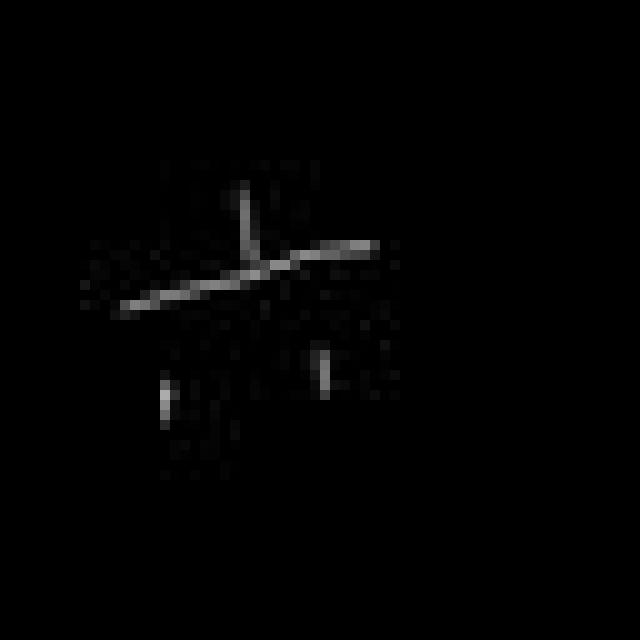6 -six-: (94, 182, 386, 428)
